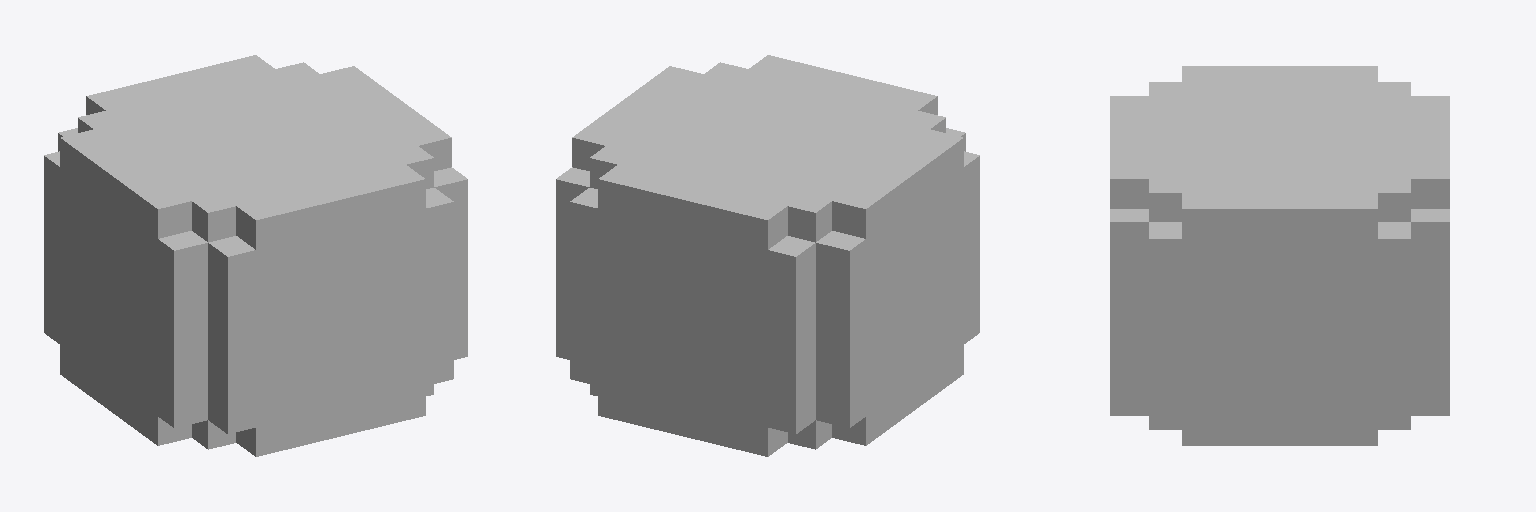
Rendered from Cut_Edges_Cube.obj.
The picture shows the model from 3 angles: view 1: azimuth 30°, elevation 25°; view 2: azimuth 150°, elevation 25°; view 3: azimuth 270°, elevation 25°; orthographic projection.
Parts seen in each view (by area): view 1: Cut_Edges_Cube; view 2: Cut_Edges_Cube; view 3: Cut_Edges_Cube.
Part boxes in pixels (left/top/right/bottom): Cut_Edges_Cube: left=44, top=55, right=467, bottom=456; Cut_Edges_Cube: left=556, top=55, right=979, bottom=456; Cut_Edges_Cube: left=1110, top=66, right=1449, bottom=445.
Bounding box in the file's own units: 1.3 × 1 × 1.3.